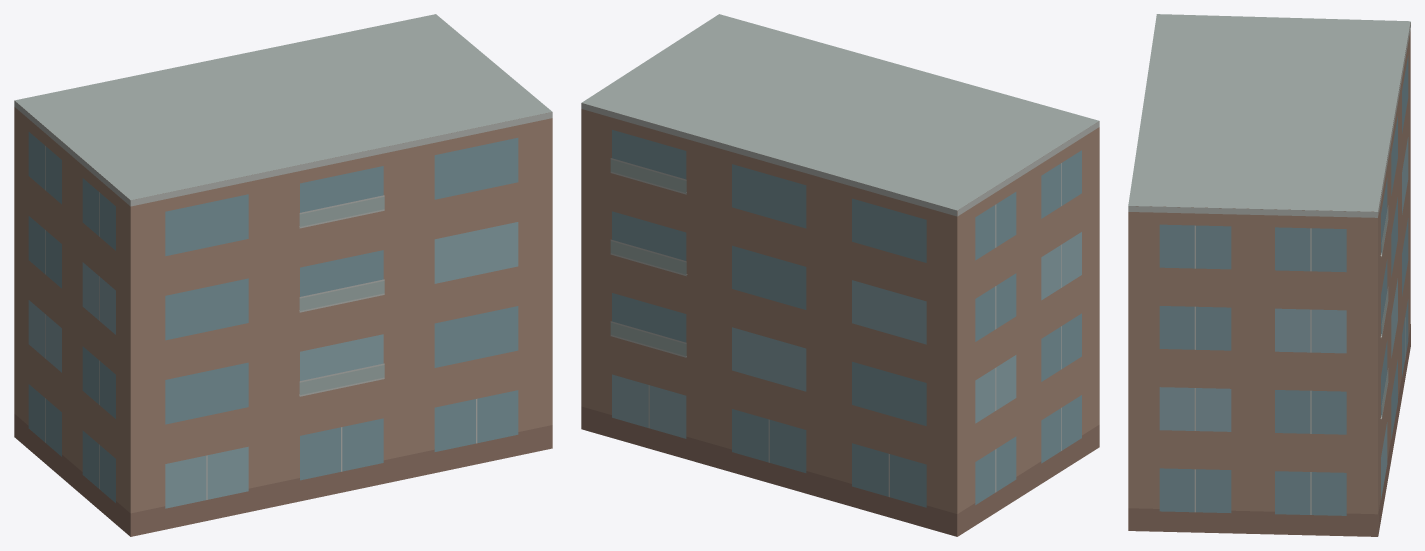
Rendered from survey-upis-32813055.glb.
3 views of the same model, side by side, from view 1: azimuth 30°, elevation 25°; view 2: azimuth 150°, elevation 25°; view 3: azimuth 270°, elevation 25° (orthographic). The views are drawn at different scales.
Visible parts, largest first — view 1: survey-upis-32813055.tmp; view 2: survey-upis-32813055.tmp; view 3: survey-upis-32813055.tmp.
Boxes of the visible parts, x1,y1,x2,y2 form: survey-upis-32813055.tmp: [14, 14, 552, 536]; survey-upis-32813055.tmp: [581, 14, 1099, 536]; survey-upis-32813055.tmp: [1128, 14, 1410, 536].
Bounding box in the file's own units: 17.25 × 13.2 × 10.41.
